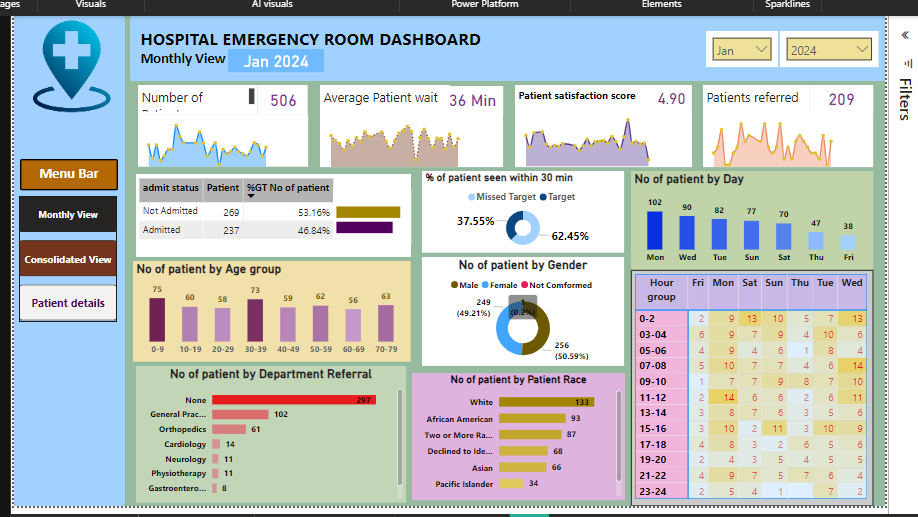

The page's visual inventory and layout, read from the dashboard file:
{"tool":"powerbi","page":{"name":"Monthly View","canvas":[1280,720],"ordinal":0},"visuals":[{"type":"shape","box":[0,0,163.1,720],"z":0},{"type":"shape","box":[170.4,0,1109.4,95.5],"z":1000},{"type":"textbox","box":[180.7,11.8,545.1,69.1],"z":2000},{"type":"card","fields":{"Values":["measure_table.No of patient"]},"box":[358.5,101.4,73.5,44.1],"z":3000},{"type":"card","fields":{"Values":["measure_table.avg wait time"]},"box":[628.9,102.9,89.6,39.7],"z":4000},{"type":"card","fields":{"Values":["measure_table.avg patient satis"]},"box":[936,101.4,60.2,39.7],"z":5000},{"type":"card","fields":{"Values":["measure_table.total patient ref"]},"box":[1169.6,101.4,92.6,39.7],"z":6000},{"type":"slicer","fields":{"Values":["calender.Year"]},"box":[1125.6,22,145.5,52.9],"z":7000},{"type":"slicer","fields":{"Values":["calender.Month"]},"box":[1016.8,22,105.8,52.9],"z":8000},{"type":"card","fields":{"Values":["Min(calender.Month & Year)"]},"box":[314.4,48.5,141.1,33.8],"z":9000},{"type":"textbox","box":[182.2,101.4,176.3,44.1],"z":10000},{"type":"textbox","box":[449.6,101.4,191,44.1],"z":11000},{"type":"textbox","box":[736.2,101.4,199.8,44.1],"z":12000},{"type":"textbox","box":[1012.4,101.4,157.2,44.1],"z":13000},{"type":"areaChart","fields":{"Category":["calender.Date.Variation.Date Hierarchy.Day"],"Y":["measure_table.No of patient"]},"box":[182.2,145.9,249.8,76.4],"z":14000},{"type":"areaChart","fields":{"Category":["calender.Date.Variation.Date Hierarchy.Day"],"Y":["Avg(Hospital ER_Data.Patient Waittime)"]},"box":[449.6,141.1,268.9,80.8],"z":15000},{"type":"areaChart","fields":{"Category":["calender.Date.Variation.Date Hierarchy.Day"],"Y":["measure_table.avg patient satis"]},"box":[736.2,141.1,260.1,80.8],"z":16000},{"type":"areaChart","fields":{"Category":["calender.Date.Variation.Date Hierarchy.Day"],"Y":["measure_table.total patient ref"]},"box":[1012.4,141.5,249.8,80.8],"z":17000},{"type":"shape","box":[179.3,232.2,404.1,122],"z":18000},{"type":"pivotTable","fields":{"Rows":["Hospital ER_Data.admit status"],"Values":["measure_table.No of patient","Divide(measure_table.No of patient, ScopedEval(measure_table.No of patient, []))"]},"box":[179.3,233.6,305.6,120.5],"z":19000},{"type":"barChart","fields":{"Category":["Hospital ER_Data.admit status"],"Y":["measure_table.No of patient"]},"box":[468.7,255.7,114.6,80.8],"z":20000},{"type":"clusteredColumnChart","fields":{"Category":["Hospital ER_Data.Age group"],"Y":["measure_table.No of patient"]},"box":[174.9,360,408.5,148.4],"z":21000},{"type":"donutChart","title":"No of patient by Gender","fields":{"Y":["measure_table.No of patient"],"Category":["Hospital ER_Data.Patient Gender"]},"box":[599.5,354.1,296.8,160.2],"z":22000},{"type":"clusteredBarChart","fields":{"Category":["Hospital ER_Data.Department Referral"],"Y":["measure_table.No of patient"]},"box":[179.3,514.3,396.7,201.3],"z":23000},{"type":"donutChart","title":"% of patient seen within 30 min","fields":{"Y":["measure_table.No of patient"],"Category":["Hospital ER_Data.patient wait target"]},"box":[599.5,227.8,296.8,120.5],"z":24000},{"type":"clusteredBarChart","fields":{"Y":["measure_table.No of patient"],"Category":["Hospital ER_Data.Patient Race"]},"box":[584.8,524.6,313,186.6],"z":25000},{"type":"clusteredColumnChart","fields":{"Y":["measure_table.No of patient"],"Category":["calender.Day name"]},"box":[906.6,227.8,355.6,145.5],"z":26000},{"type":"pivotTable","fields":{"Rows":["Hospital ER_Data.Hour group"],"Columns":["calender.Day name"],"Values":["measure_table.No of patient"]},"box":[906.6,373.2,355.6,346.8],"z":27000},{"type":"image","box":[7.3,1.5,155.8,145.5],"z":28000},{"type":"pageNavigator","box":[7.3,264.5,144,185.1],"z":29000},{"type":"textbox","box":[8.8,210.1,144,45.6],"z":30000}]}

Visuals, with their boxes on the page's 1280x720 design canvas (x1, y1, x2, y2). These are canvas units, not pixel positions in the 918x517 screenshot, which may show the page scaled, cropped or inside an application window:
shape: rect(0, 0, 163, 720)
shape: rect(170, 0, 1280, 96)
textbox: rect(181, 12, 726, 81)
card - measure_table.No of patient: rect(358, 101, 432, 146)
card - measure_table.avg wait time: rect(629, 103, 718, 143)
card - measure_table.avg patient satis: rect(936, 101, 996, 141)
card - measure_table.total patient ref: rect(1170, 101, 1262, 141)
slicer - calender.Year: rect(1126, 22, 1271, 75)
slicer - calender.Month: rect(1017, 22, 1123, 75)
card - Min(calender.Month & Year): rect(314, 48, 456, 82)
textbox: rect(182, 101, 358, 146)
textbox: rect(450, 101, 641, 146)
textbox: rect(736, 101, 936, 146)
textbox: rect(1012, 101, 1170, 146)
areaChart - calender.Date.Variation.Date Hierarchy.Day x measure_table.No of patient: rect(182, 146, 432, 222)
areaChart - calender.Date.Variation.Date Hierarchy.Day x Avg(Hospital ER_Data.Patient Waittime): rect(450, 141, 718, 222)
areaChart - calender.Date.Variation.Date Hierarchy.Day x measure_table.avg patient satis: rect(736, 141, 996, 222)
areaChart - calender.Date.Variation.Date Hierarchy.Day x measure_table.total patient ref: rect(1012, 142, 1262, 222)
shape: rect(179, 232, 583, 354)
pivotTable - Hospital ER_Data.admit status x measure_table.No of patient: rect(179, 234, 485, 354)
barChart - Hospital ER_Data.admit status x measure_table.No of patient: rect(469, 256, 583, 336)
clusteredColumnChart - Hospital ER_Data.Age group x measure_table.No of patient: rect(175, 360, 583, 508)
"No of patient by Gender" donutChart: rect(600, 354, 896, 514)
clusteredBarChart - Hospital ER_Data.Department Referral x measure_table.No of patient: rect(179, 514, 576, 716)
"% of patient seen within 30 min" donutChart: rect(600, 228, 896, 348)
clusteredBarChart - measure_table.No of patient x Hospital ER_Data.Patient Race: rect(585, 525, 898, 711)
clusteredColumnChart - measure_table.No of patient x calender.Day name: rect(907, 228, 1262, 373)
pivotTable - Hospital ER_Data.Hour group x calender.Day name: rect(907, 373, 1262, 720)
image: rect(7, 2, 163, 147)
pageNavigator: rect(7, 264, 151, 450)
textbox: rect(9, 210, 153, 256)
